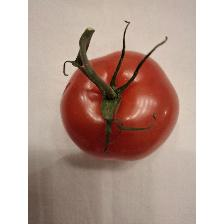Tomate: (55, 20, 182, 166)
